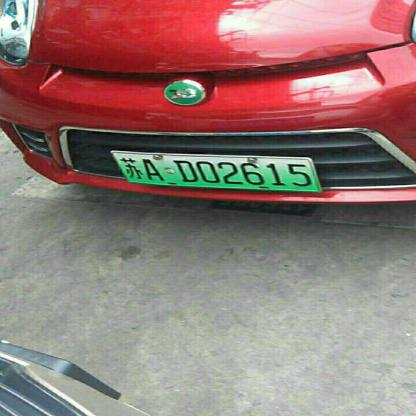lp: (110, 151, 321, 193)
